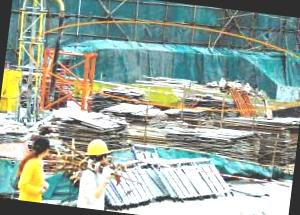no_helmet: (24, 134, 54, 164)
